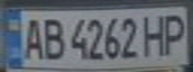2: (118, 12, 142, 60), (84, 15, 106, 61)
4: (66, 15, 87, 61)
6: (103, 14, 124, 61)
A: (18, 14, 48, 61)
B: (39, 15, 66, 61)
H: (139, 11, 172, 57)
P: (157, 10, 190, 56)
